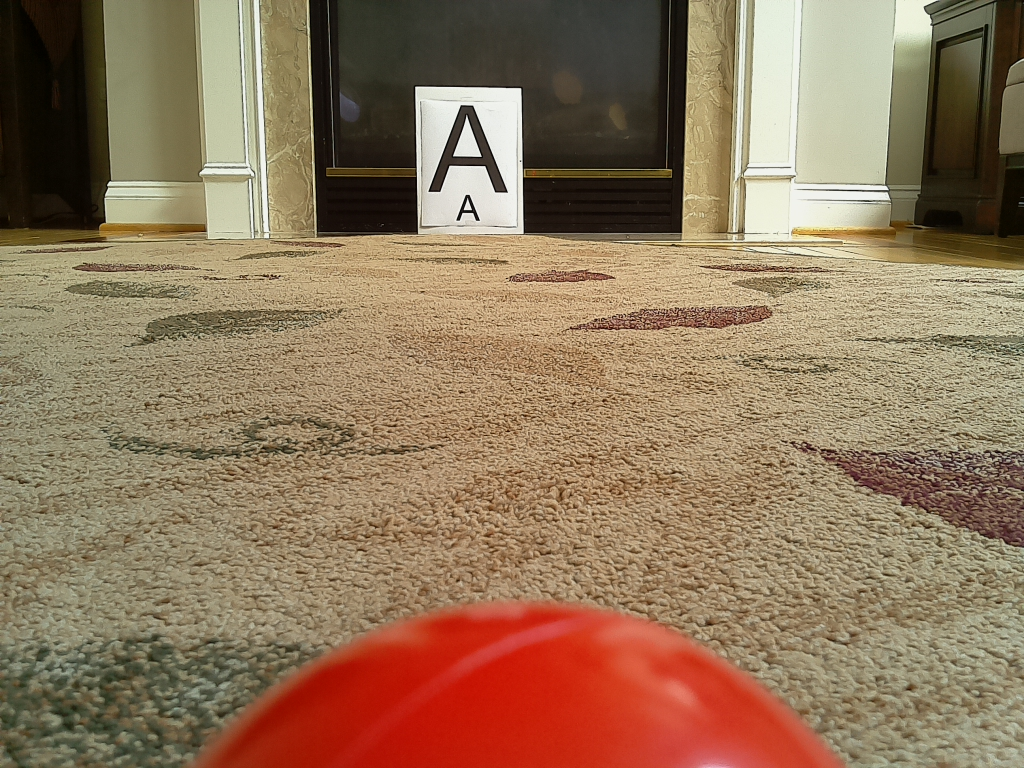letter: (431, 106, 508, 194)
